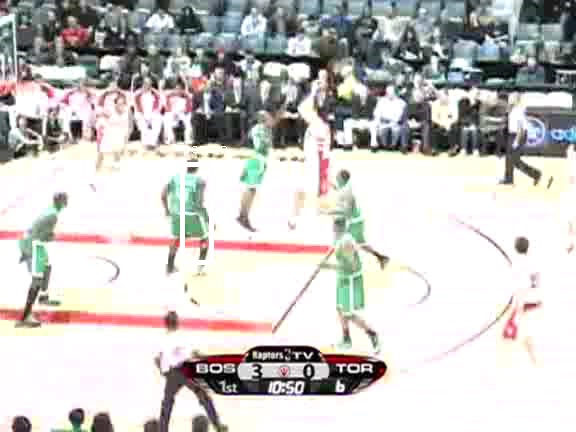person: (332, 175, 366, 256), (331, 175, 365, 256), (333, 175, 367, 256), (332, 174, 366, 255), (332, 176, 366, 257)
target_negative: (39, 49, 559, 79), (463, 247, 540, 290), (4, 345, 29, 383), (539, 214, 543, 324), (506, 155, 508, 344)
